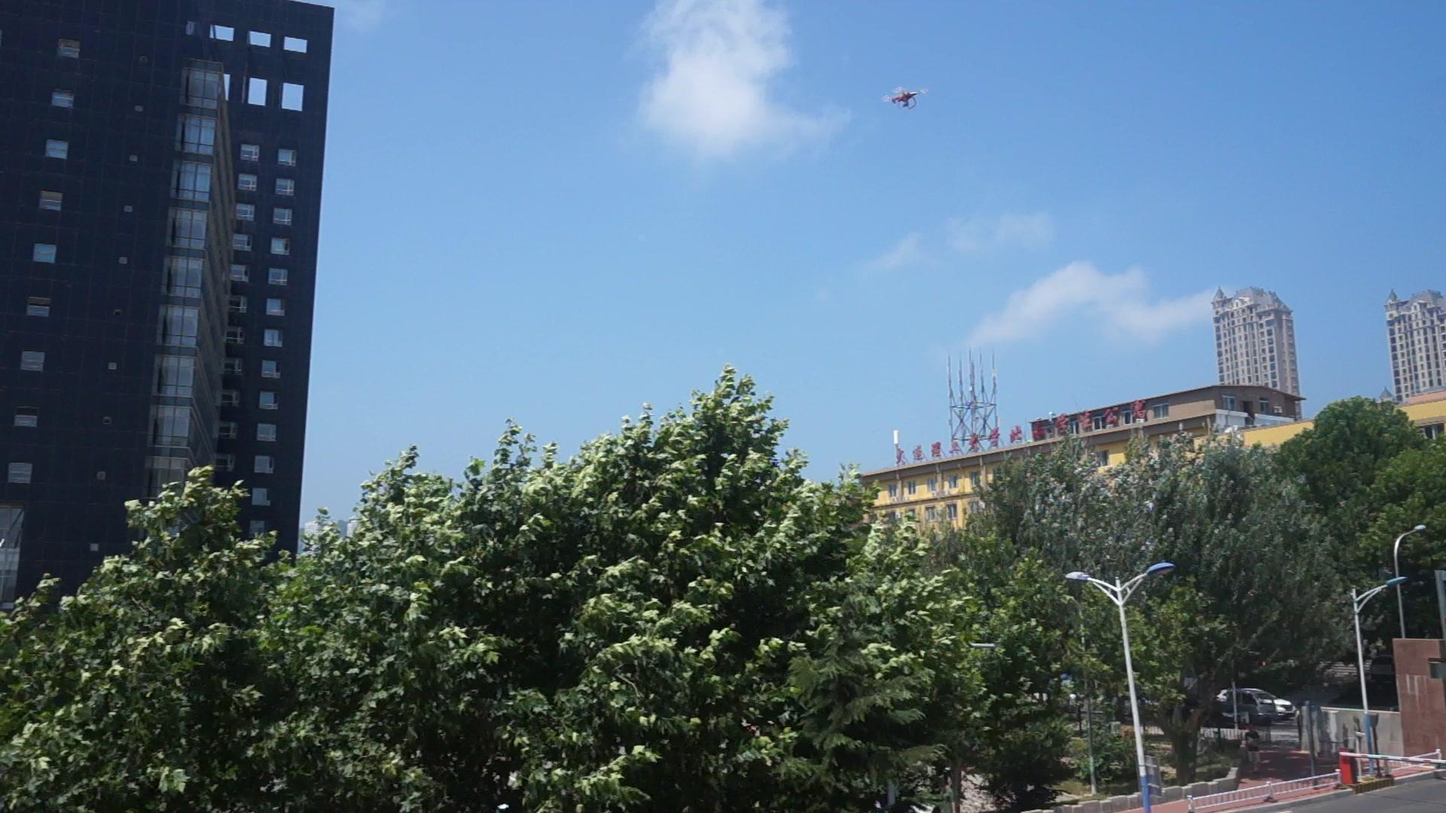UAV: (881, 87, 928, 110)
